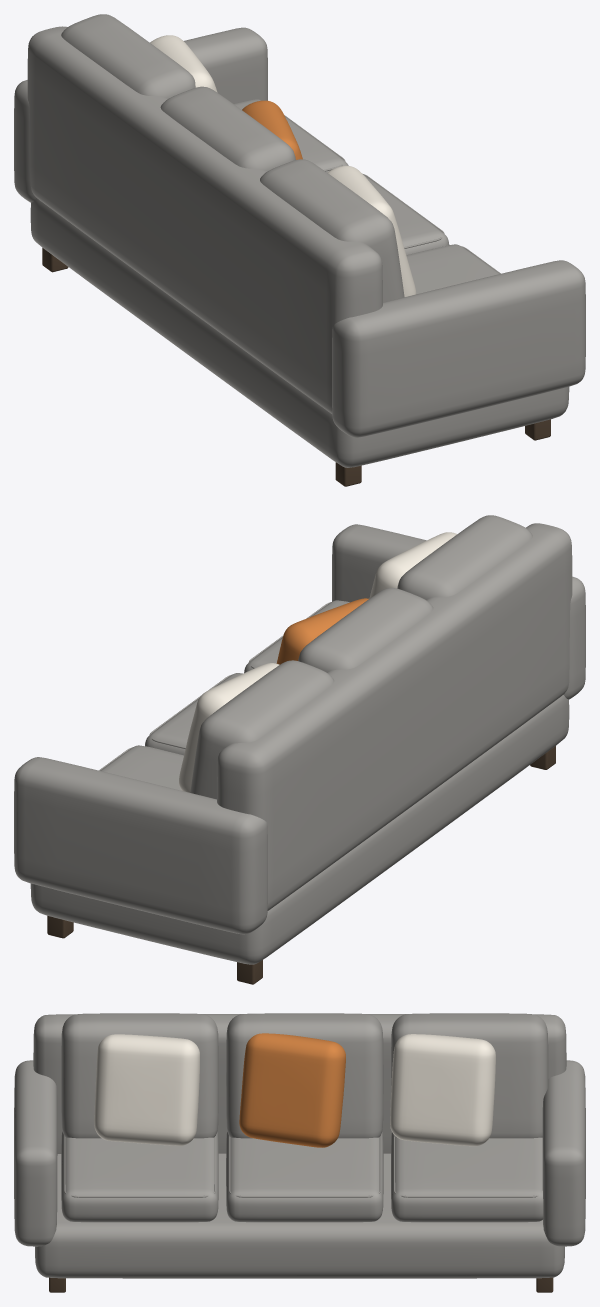
File: sofa-tailored.glb
3 renders of one model, top to bottom at view 1: azimuth 30°, elevation 25°; view 2: azimuth 150°, elevation 25°; view 3: azimuth 270°, elevation 25°, orthographic. The views are drawn at different scales.
Parts seen in each view (by area): view 1: Soft upholstered back, Rounded arm.001, Continuous sofa plinth, Reclined back cushion 3, Rounded arm, Reclined back cushion 1, Reclined back cushion 2, Seat cushion 3, Accent pillow 3, Seat cushion 2, Accent pillow 1, Accent pillow 2 (+1 smaller); view 2: Soft upholstered back, Rounded arm, Continuous sofa plinth, Reclined back cushion 1, Rounded arm.001, Reclined back cushion 3, Reclined back cushion 2, Accent pillow 1, Seat cushion 1, Accent pillow 2, Accent pillow 3, Seat cushion 2 (+1 smaller); view 3: Continuous sofa plinth, Seat cushion 2, Seat cushion 3, Seat cushion 1, Accent pillow 3, Accent pillow 1, Accent pillow 2, Reclined back cushion 2, Reclined back cushion 3, Reclined back cushion 1, Rounded arm.001, Rounded arm (+4 smaller).
Boxes of the visible parts, box(x1,y1,x2,y2) form: Soft upholstered back: box(27, 26, 382, 413); Rounded arm.001: box(332, 260, 585, 437); Continuous sofa plinth: box(30, 198, 569, 467); Reclined back cushion 3: box(260, 159, 404, 302); Rounded arm: box(14, 27, 267, 202); Reclined back cushion 1: box(61, 14, 195, 98); Reclined back cushion 2: box(160, 86, 295, 171); Seat cushion 3: box(406, 244, 499, 294); Accent pillow 3: box(327, 165, 416, 296); Seat cushion 2: box(363, 174, 449, 254); Accent pillow 1: box(150, 35, 217, 92); Accent pillow 2: box(242, 100, 302, 159); Soft upholstered back: box(217, 523, 572, 910); Rounded arm: box(14, 757, 267, 934); Continuous sofa plinth: box(30, 695, 569, 964); Reclined back cushion 1: box(190, 660, 334, 799); Rounded arm.001: box(332, 524, 585, 699); Reclined back cushion 3: box(397, 515, 532, 599); Reclined back cushion 2: box(298, 588, 433, 672); Accent pillow 1: box(179, 663, 279, 792); Seat cushion 1: box(100, 745, 183, 790); Accent pillow 2: box(276, 598, 368, 664); Accent pillow 3: box(369, 532, 457, 598); Seat cushion 2: box(145, 673, 242, 755); Continuous sofa plinth: box(35, 1153, 564, 1278); Seat cushion 2: box(226, 1132, 383, 1222); Seat cushion 3: box(61, 1131, 218, 1222); Seat cushion 1: box(391, 1132, 543, 1222); Accent pillow 3: box(94, 1034, 199, 1145); Accent pillow 1: box(390, 1034, 495, 1146); Accent pillow 2: box(239, 1033, 345, 1147); Reclined back cushion 2: box(226, 1013, 383, 1138); Reclined back cushion 3: box(61, 1013, 218, 1138); Reclined back cushion 1: box(391, 1013, 548, 1138); Rounded arm.001: box(14, 1060, 57, 1246); Rounded arm: box(542, 1060, 585, 1246).
Size of the model in its own units: 0.9595 by 0.9425 by 2.36.
